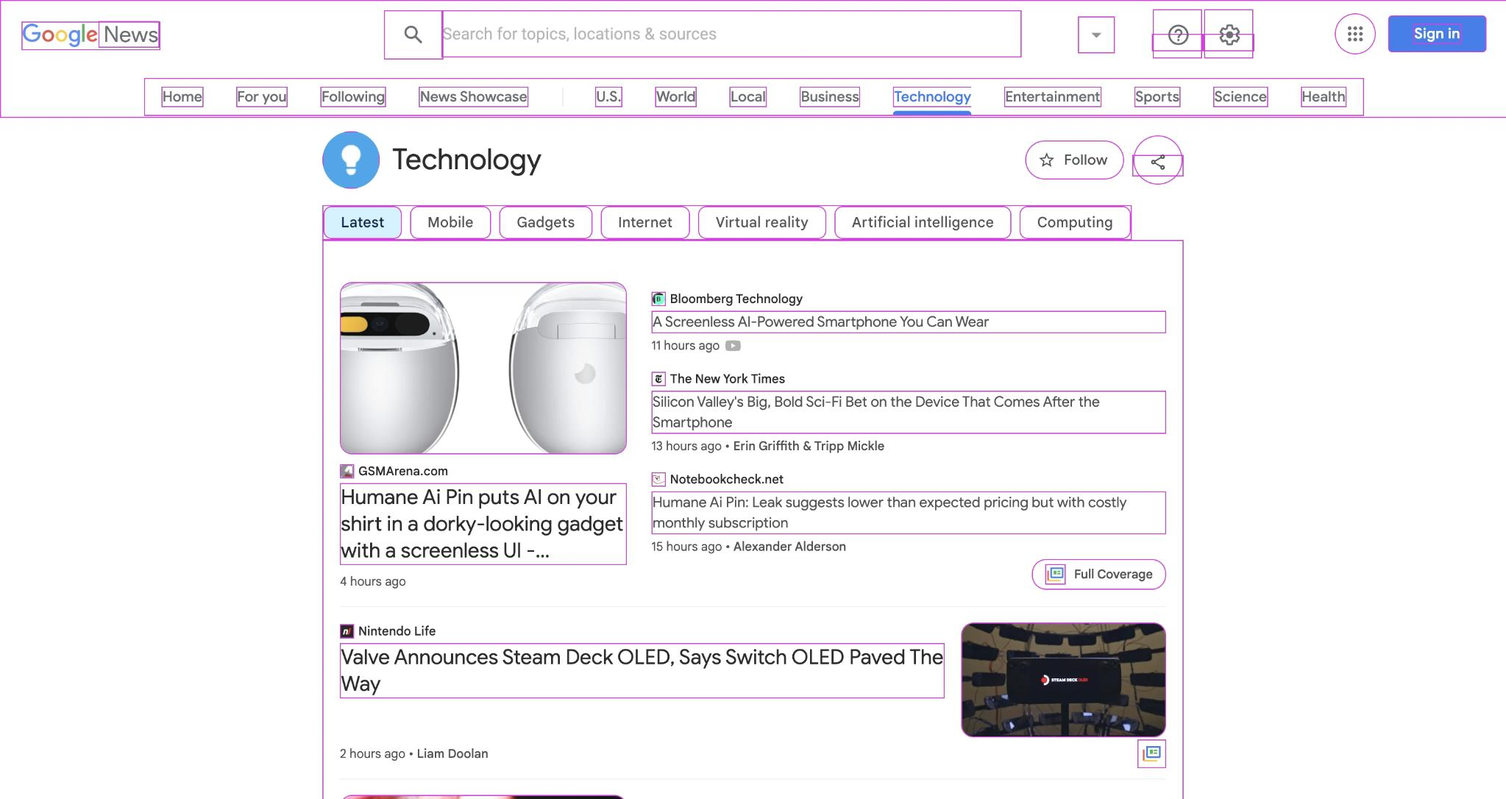webelement: (322, 262, 1183, 799), (0, 0, 1505, 115), (338, 278, 625, 450), (156, 78, 1349, 113), (339, 637, 946, 690), (442, 8, 1022, 55), (322, 205, 1129, 237), (962, 617, 1167, 731), (338, 479, 625, 558), (650, 385, 1167, 426), (650, 484, 1167, 524), (650, 307, 1167, 327), (833, 205, 1010, 237), (697, 205, 825, 237), (1036, 555, 1167, 584), (1027, 140, 1126, 178), (1387, 13, 1485, 50), (1019, 205, 1129, 237), (322, 130, 380, 188), (20, 22, 154, 46), (498, 205, 591, 237), (338, 789, 625, 799), (599, 205, 688, 237), (385, 8, 442, 55), (408, 205, 489, 237), (322, 205, 401, 237), (731, 430, 883, 446), (1202, 7, 1251, 56), (1153, 7, 1201, 56), (1134, 135, 1183, 183), (889, 87, 965, 114), (424, 87, 531, 106), (998, 87, 1093, 106), (732, 528, 844, 544), (1333, 11, 1374, 52), (95, 21, 153, 45), (1081, 14, 1116, 49), (415, 739, 487, 756), (327, 87, 391, 106), (797, 87, 855, 106), (1203, 87, 1255, 106), (1134, 154, 1183, 173), (246, 87, 294, 106), (1414, 22, 1460, 41), (925, 611, 954, 640), (1127, 87, 1170, 106), (1289, 87, 1332, 106), (605, 454, 634, 482), (1147, 281, 1175, 310), (1147, 457, 1175, 486), (1139, 733, 1167, 762), (1147, 359, 1175, 387), (172, 87, 212, 106), (656, 87, 696, 106), (1202, 32, 1251, 47), (1153, 32, 1201, 47), (729, 87, 763, 106), (598, 87, 623, 106), (1047, 560, 1067, 579), (339, 461, 353, 475), (651, 289, 665, 303), (651, 366, 665, 380), (651, 465, 665, 479), (339, 618, 353, 632), (1147, 792, 1175, 799)
